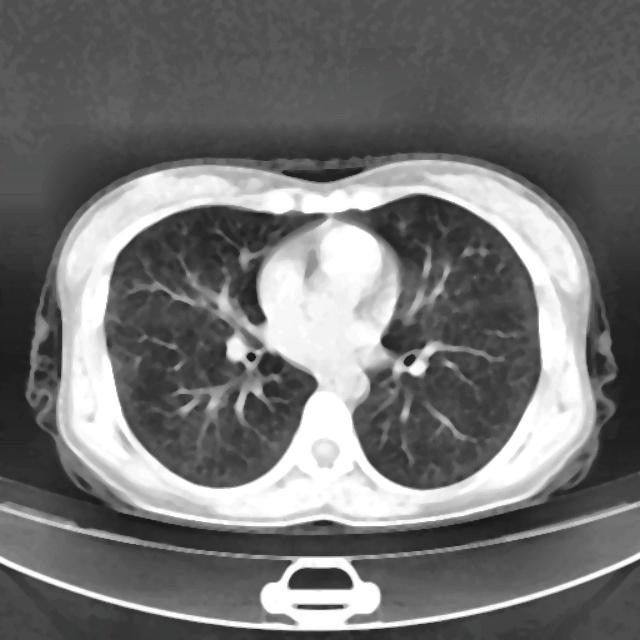covid: (25, 152, 618, 534)
